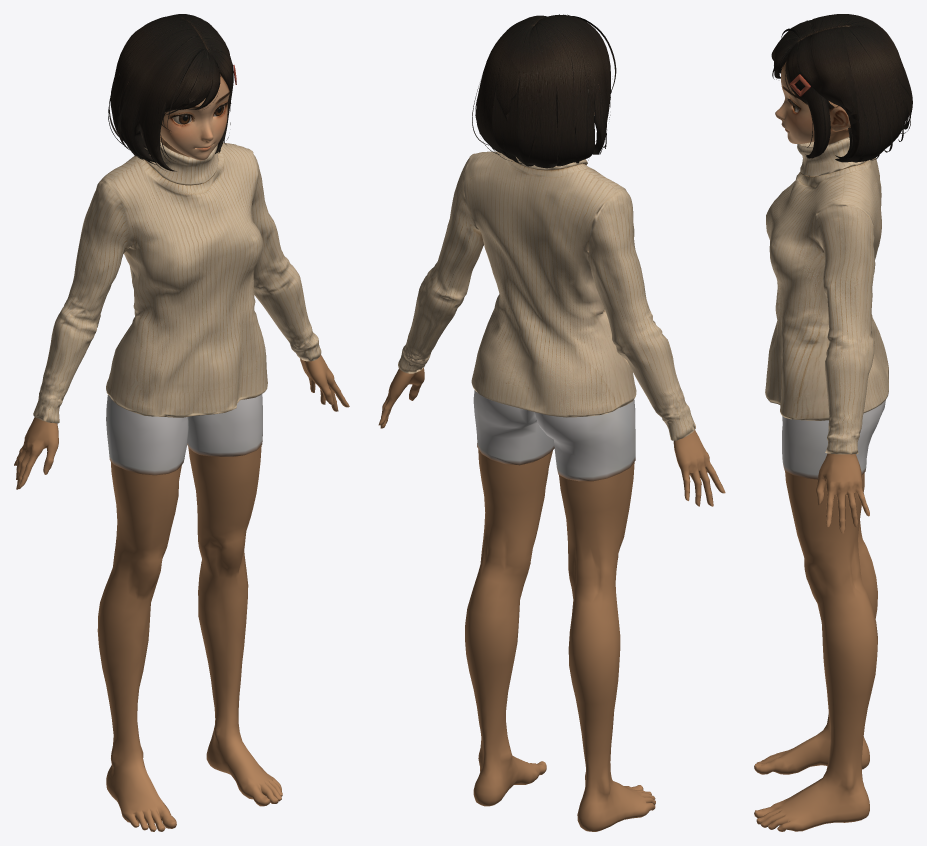
Rendered from pomo.glb.
3 views of the same model, side by side, from view 1: azimuth 30°, elevation 25°; view 2: azimuth 150°, elevation 25°; view 3: azimuth 270°, elevation 25° (orthographic). The views are drawn at different scales.
Parts seen in each view (by area): view 1: Settled knit sweater, Pomo connected body physics copy, tripo_part_2.026 physics copy, tripo_part_1.026 physics copy, tripo_part_3.026 physics copy; view 2: Settled knit sweater, Pomo connected body physics copy, tripo_part_4.026 physics copy, tripo_part_2.026 physics copy, tripo_part_1.026 physics copy, tripo_part_33.025 physics copy; view 3: Pomo connected body physics copy, Settled knit sweater, tripo_part_1.026 physics copy, tripo_part_2.026 physics copy, tripo_part_3.026 physics copy.
Boxes of the visible parts, <box> form: Settled knit sweater: <box>33,138,321,423</box>; Pomo connected body physics copy: <box>14,74,349,831</box>; tripo_part_2.026 physics copy: <box>111,16,209,171</box>; tripo_part_1.026 physics copy: <box>168,14,233,153</box>; tripo_part_3.026 physics copy: <box>165,52,220,115</box>; Settled knit sweater: <box>398,151,695,440</box>; Pomo connected body physics copy: <box>378,112,725,831</box>; tripo_part_4.026 physics copy: <box>506,41,578,168</box>; tripo_part_2.026 physics copy: <box>528,14,610,162</box>; tripo_part_1.026 physics copy: <box>476,15,547,163</box>; tripo_part_33.025 physics copy: <box>492,78,522,160</box>; Pomo connected body physics copy: <box>754,62,885,831</box>; Settled knit sweater: <box>765,137,888,454</box>; tripo_part_1.026 physics copy: <box>785,25,909,162</box>; tripo_part_2.026 physics copy: <box>771,14,872,72</box>; tripo_part_3.026 physics copy: <box>774,38,797,78</box>.
Bounding box in the file's own units: 0.6813 × 1.51 × 0.2798.
46 materials, 45 textured.
